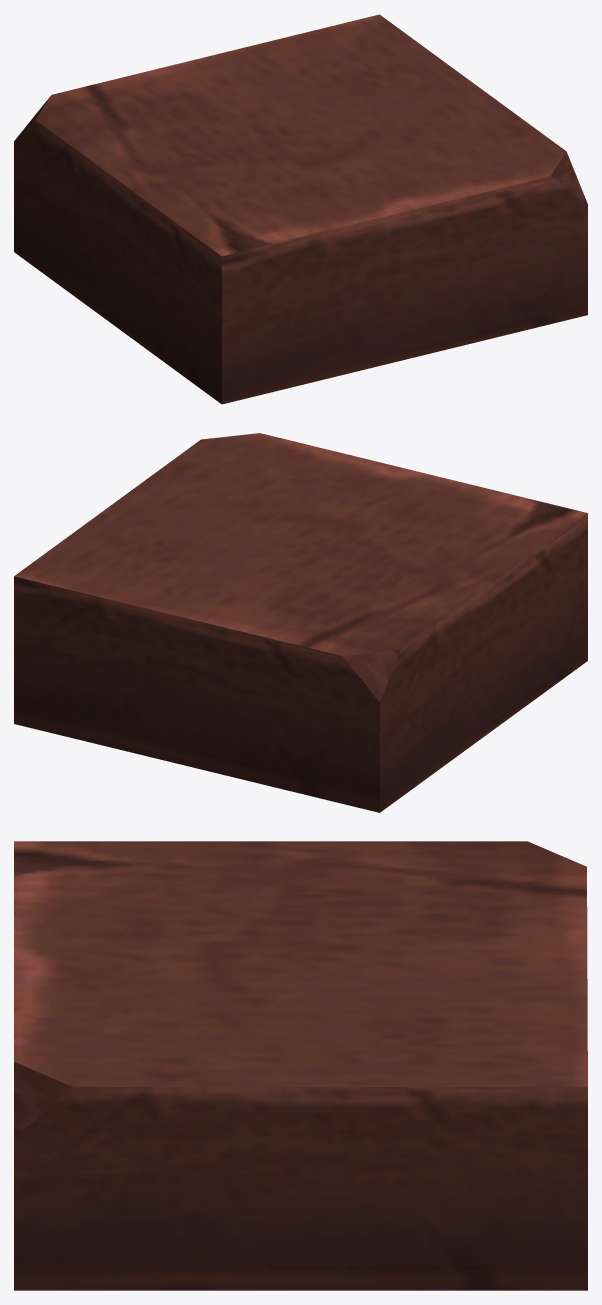
File: lava_join_cap.fbx
The picture shows the model from 3 angles, top to bottom: view 1: azimuth 30°, elevation 25°; view 2: azimuth 150°, elevation 25°; view 3: azimuth 270°, elevation 25°; orthographic projection. The views are drawn at different scales.
Visible parts, largest first — view 1: obj0.152; view 2: obj0.152; view 3: obj0.152.
Part boxes in pixels (bbox=[...]): obj0.152: bbox=[14, 14, 587, 404]; obj0.152: bbox=[14, 433, 587, 812]; obj0.152: bbox=[14, 841, 587, 1290].
Size of the model in its own units: 1.44 by 0.5554 by 1.42.
